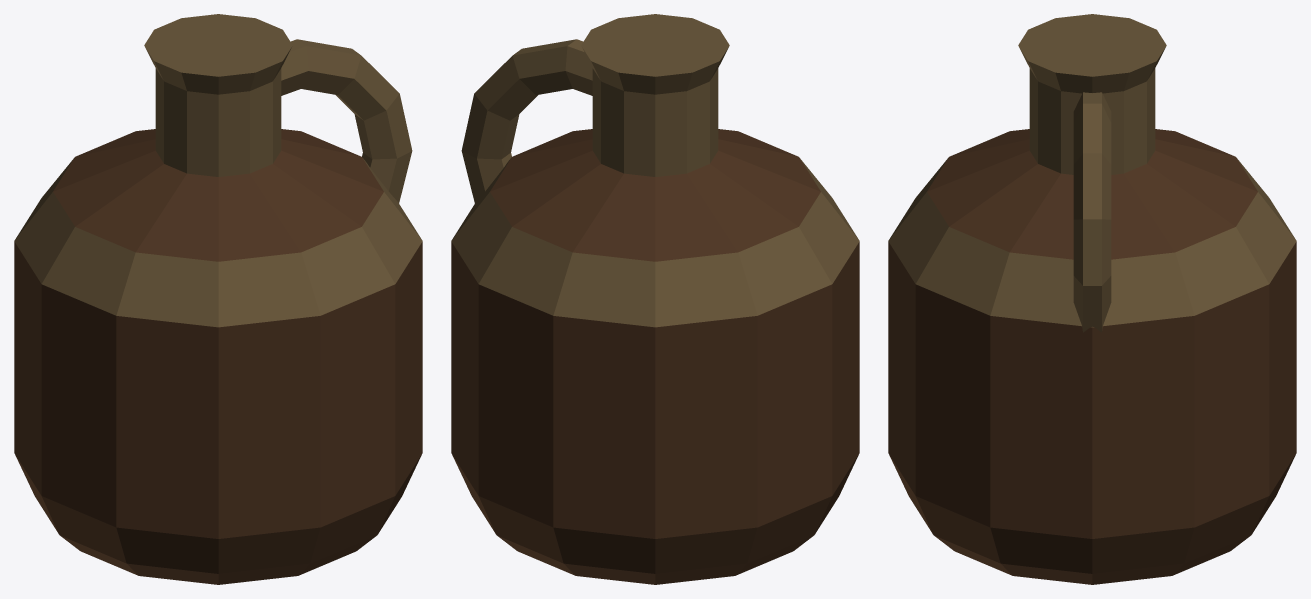
File: ITMI_RUM_01.OBJ
3 renders of one model, left to right at view 1: azimuth 30°, elevation 25°; view 2: azimuth 150°, elevation 25°; view 3: azimuth 270°, elevation 25°, orthographic.
Parts seen in each view (by area): view 1: ITMI_RUM_01; view 2: ITMI_RUM_01; view 3: ITMI_RUM_01.
Part boxes in pixels (x1=…): ITMI_RUM_01: x1=14, y1=14, x2=422, y2=584; ITMI_RUM_01: x1=451, y1=14, x2=859, y2=584; ITMI_RUM_01: x1=888, y1=14, x2=1296, y2=584.
Bounding box in the file's own units: 0.3108 × 0.3831 × 0.3004.
